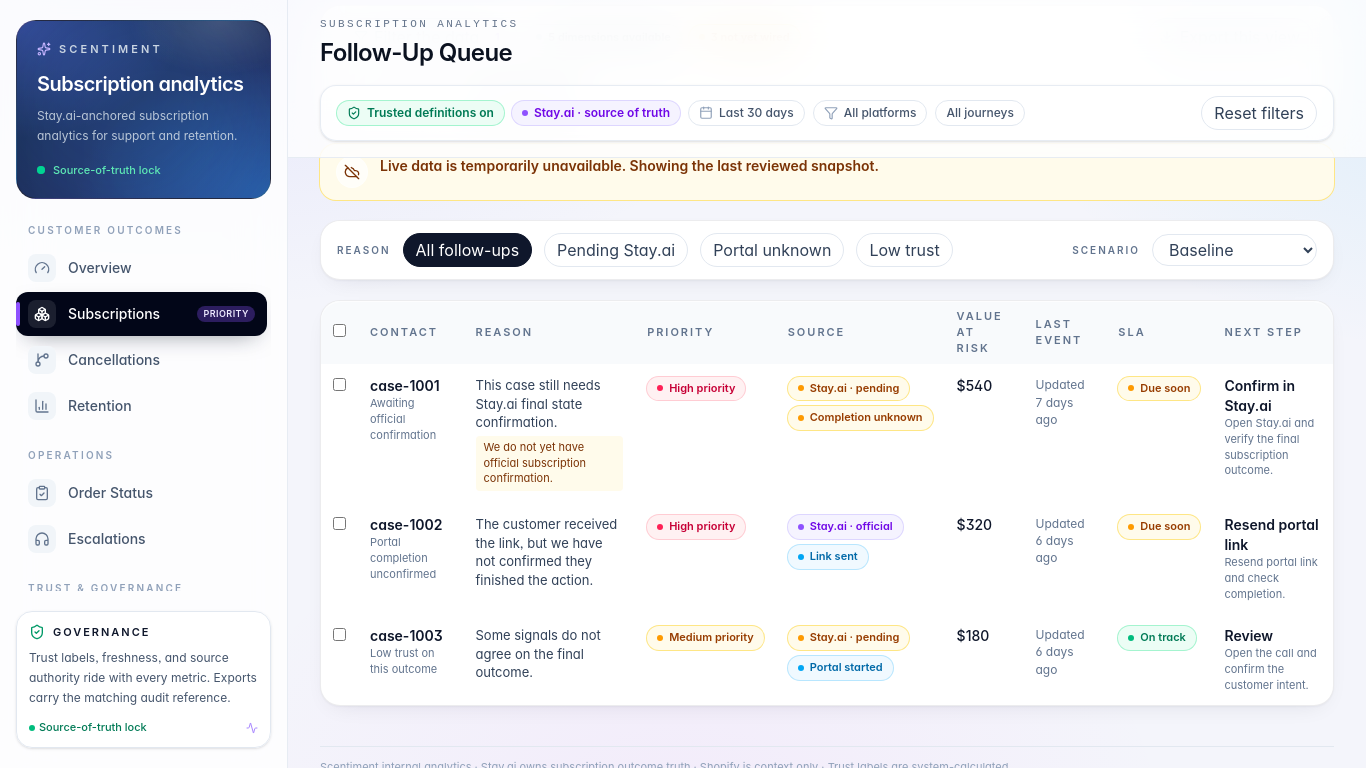
it: Follow-Up Queue page branches › toggles individual row selection and clears the row when clicked again
(page scrolled)
Expected: the table with test id "follow-up-table" is shown, [321,301,1333,705]
Click the checkbox named "Select case-1001" at {"x": 340, "y": 385}, box [333,378,346,391]
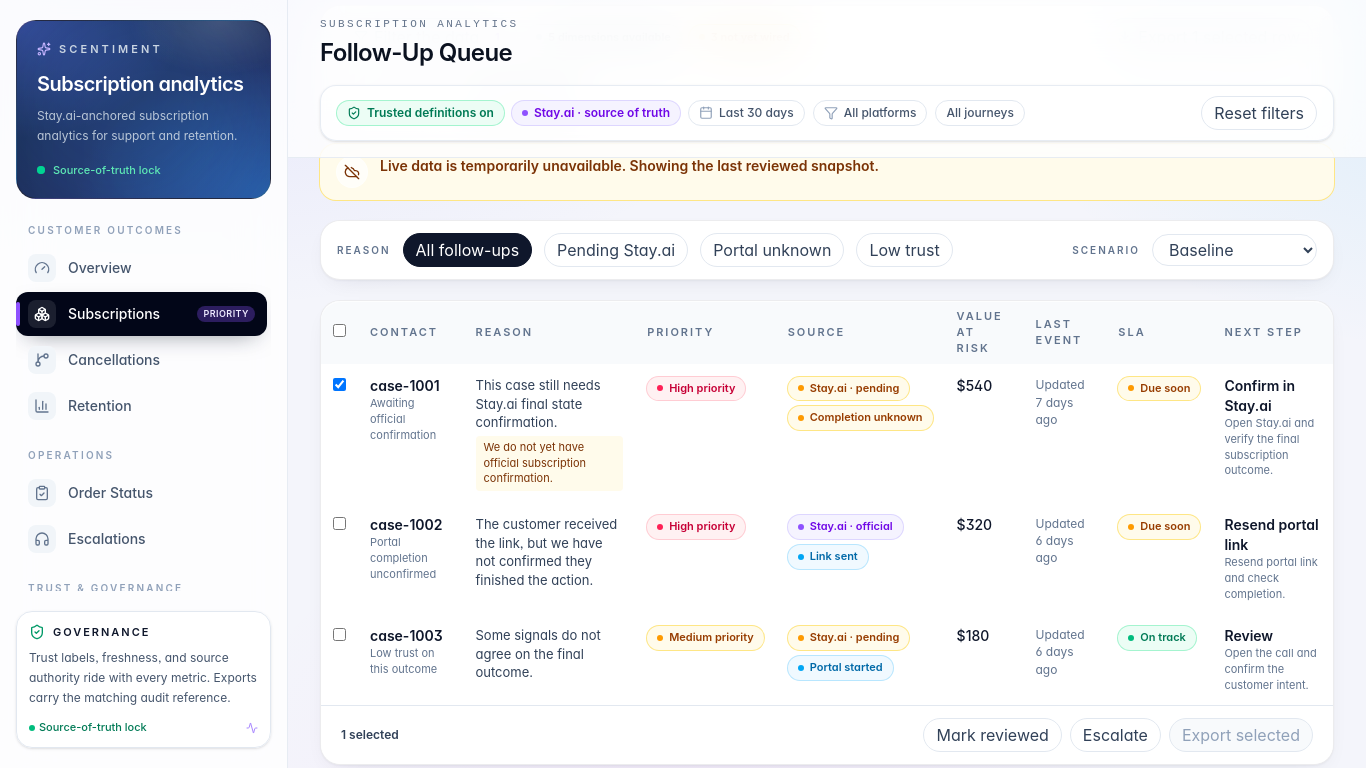
Now the element with test id "follow-up-bulk-actions" is shown, box [321,705,1333,764]
Click the checkbox named "Select case-1001" at {"x": 340, "y": 385}, box [333,378,346,391]
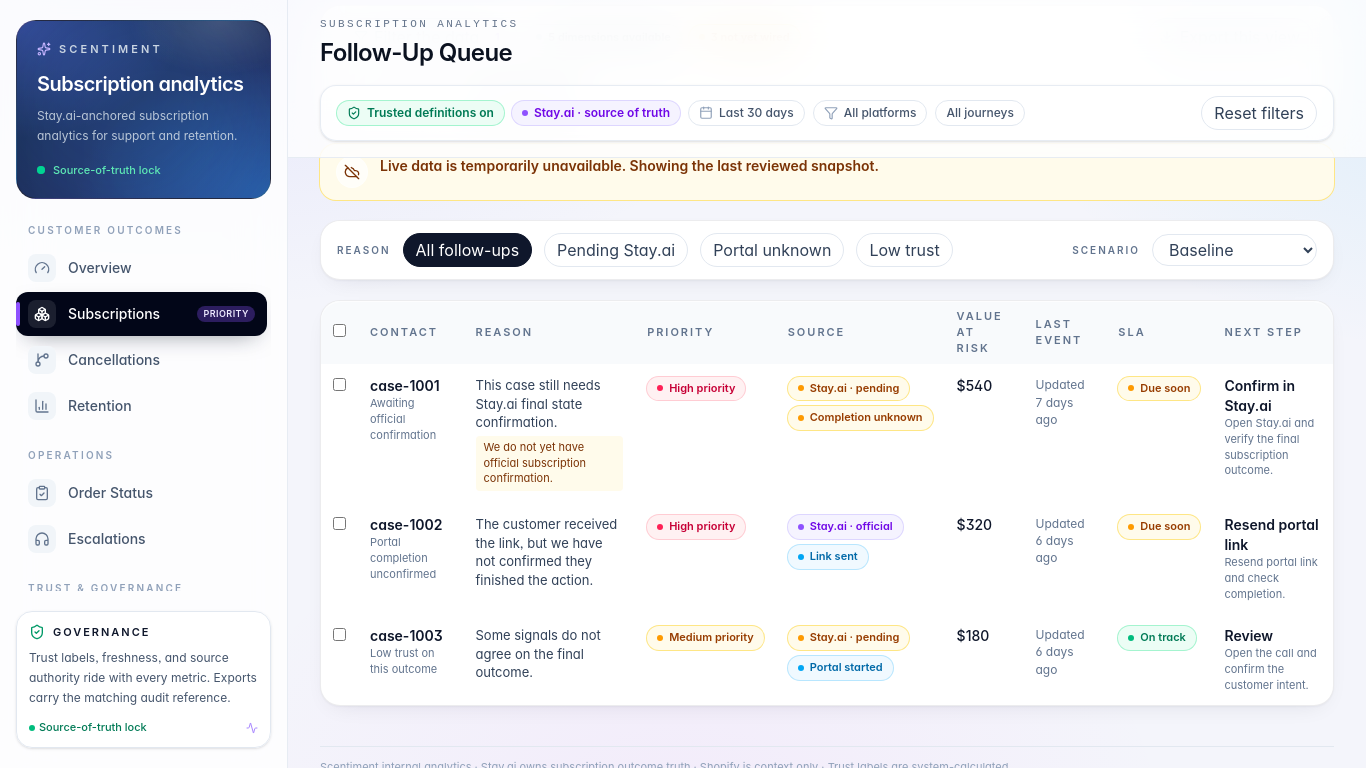
Now the element with test id "follow-up-bulk-actions" is gone
